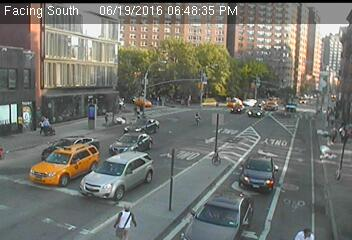neg: (59, 193, 82, 225), (324, 141, 341, 164), (286, 115, 302, 137), (89, 103, 105, 124), (283, 168, 299, 188), (31, 54, 46, 75), (72, 36, 87, 57), (192, 107, 207, 127), (206, 58, 221, 78), (188, 181, 203, 200), (161, 162, 175, 181), (289, 53, 303, 72), (240, 134, 254, 152), (128, 27, 141, 45), (252, 95, 265, 112), (162, 61, 175, 78), (311, 83, 324, 100), (53, 144, 65, 161), (120, 161, 132, 178), (17, 132, 29, 149), (88, 72, 100, 88), (35, 177, 47, 193), (222, 197, 234, 213), (55, 83, 66, 99), (139, 78, 149, 92), (210, 133, 220, 146)
pos: (114, 200, 139, 232)
